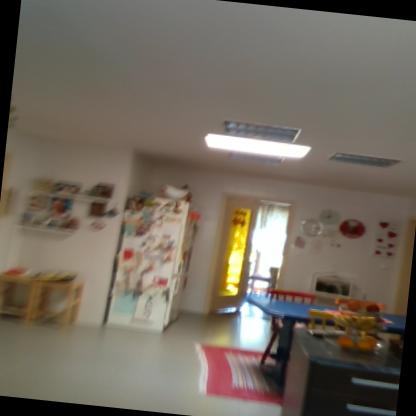semi: (203, 188, 297, 324)
